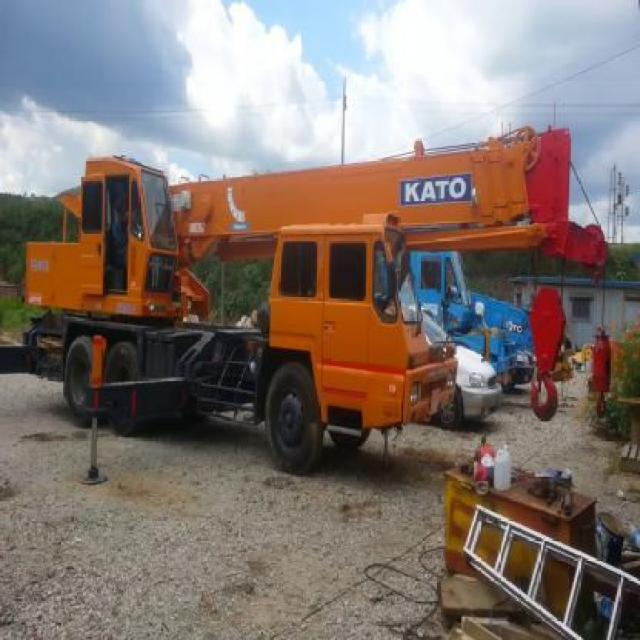Mobile Crane: (22, 124, 567, 471)
